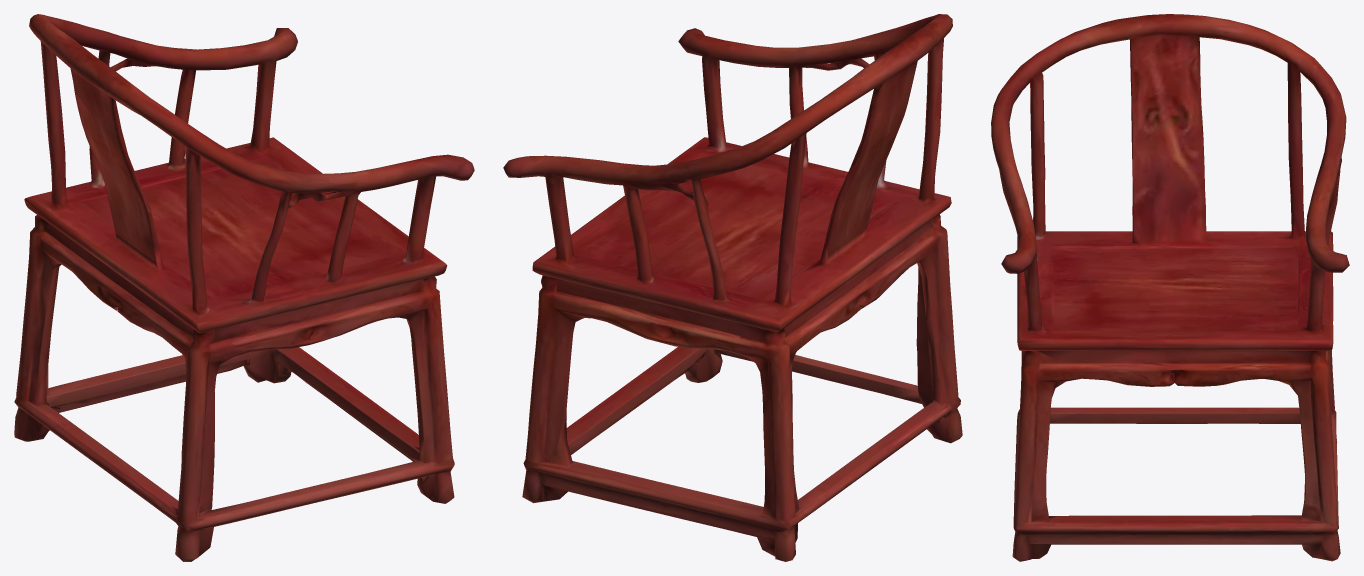
File: hw_quanyi.glb
3 views of the same model, side by side, from view 1: azimuth 30°, elevation 25°; view 2: azimuth 150°, elevation 25°; view 3: azimuth 270°, elevation 25° (orthographic). The views are drawn at different scales.
Visible parts, largest first — view 1: tripo_node_ff292dc3-cbf3-440d-9049-bf2f4efc58a7; view 2: tripo_node_ff292dc3-cbf3-440d-9049-bf2f4efc58a7; view 3: tripo_node_ff292dc3-cbf3-440d-9049-bf2f4efc58a7.
Boxes of the visible parts, bbox=[...] form: tripo_node_ff292dc3-cbf3-440d-9049-bf2f4efc58a7: bbox=[14, 14, 474, 561]; tripo_node_ff292dc3-cbf3-440d-9049-bf2f4efc58a7: bbox=[503, 14, 962, 561]; tripo_node_ff292dc3-cbf3-440d-9049-bf2f4efc58a7: bbox=[991, 14, 1349, 561].
Bounding box in the file's own units: 0.7166 × 1 × 0.7712.
Materials: 1 (1 with a texture image).
